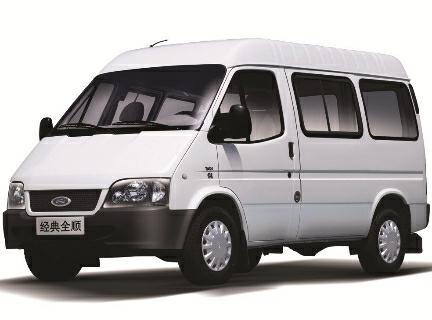福特-经典全顺: (2, 32, 432, 289)
